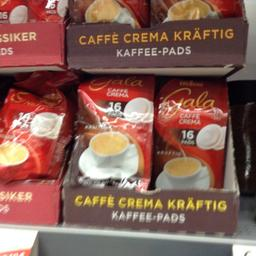coffee: (69, 70, 152, 188), (154, 76, 228, 186), (0, 72, 71, 185)
